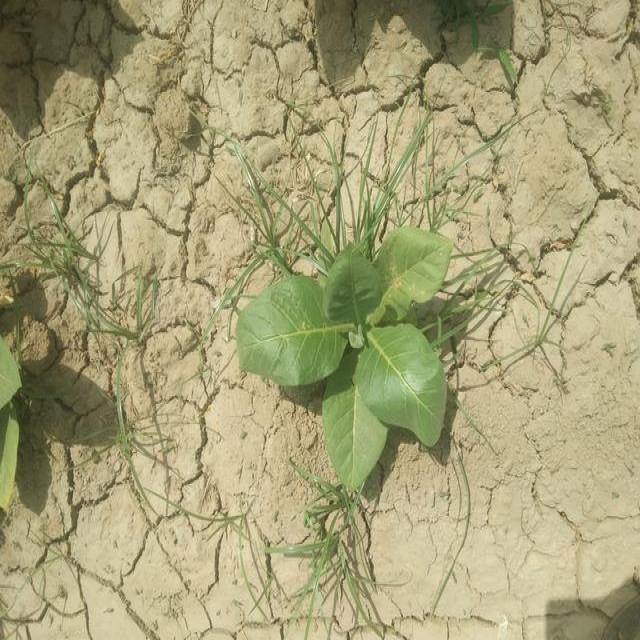crop: (232, 218, 452, 495)
